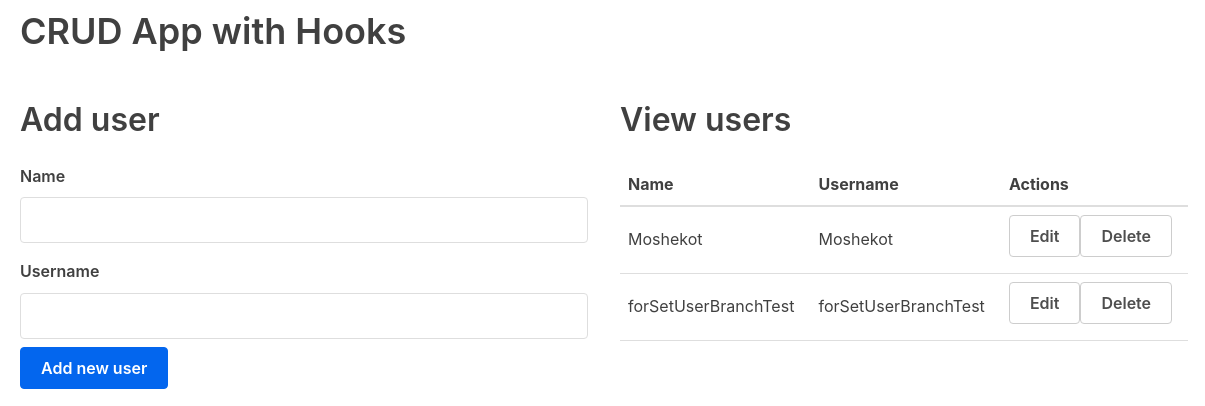
Test: Editing a user › Edit a name in a list
This screenshot has width=1205, height=406.
Click the 1st button with test id "Moshekot" at (1045, 236), box [1009, 215, 1081, 257]
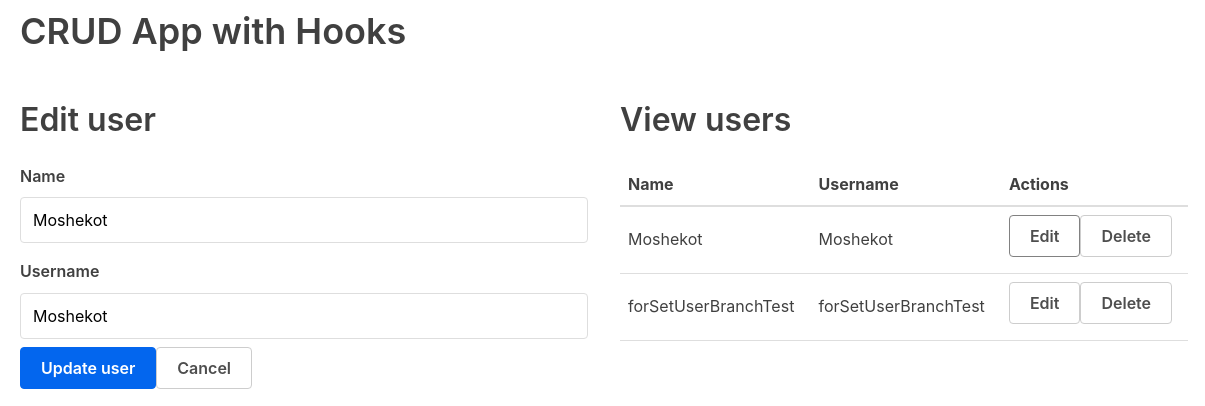
Replace the text in the field with test id "editNameText" with "MoshekotNameEdited" at (304, 220), box [20, 197, 588, 243]
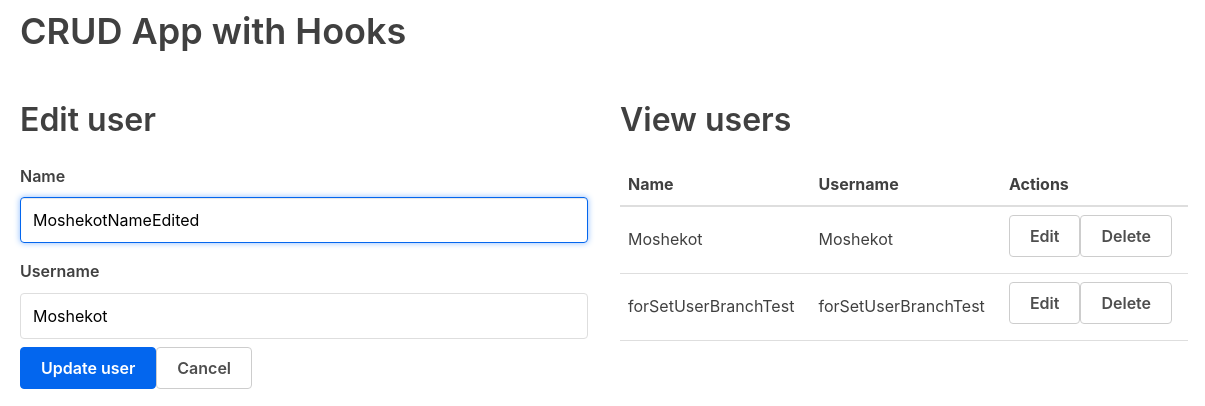
Click the button with test id "editUserButton" at (88, 368), box [20, 347, 156, 389]
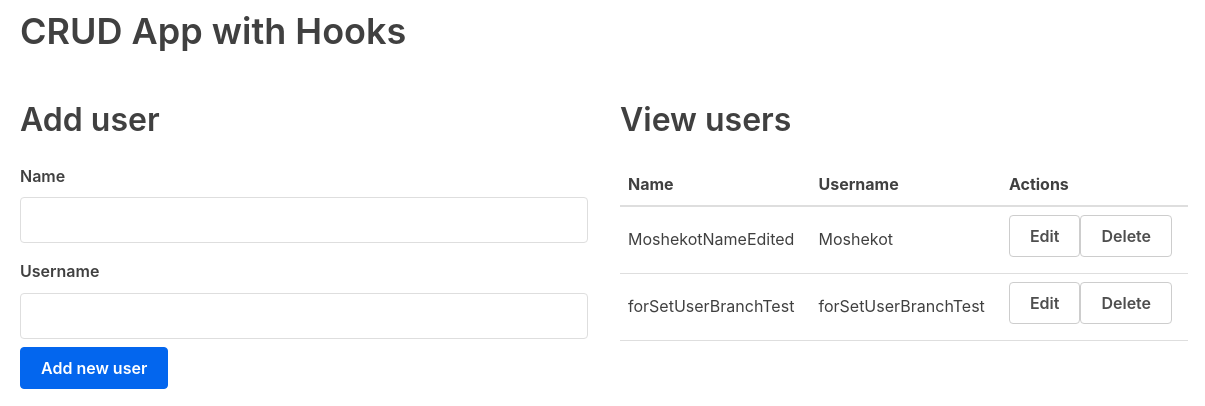
Expected: the text "MoshekotNameEdited" is shown, [620, 206, 810, 274]
